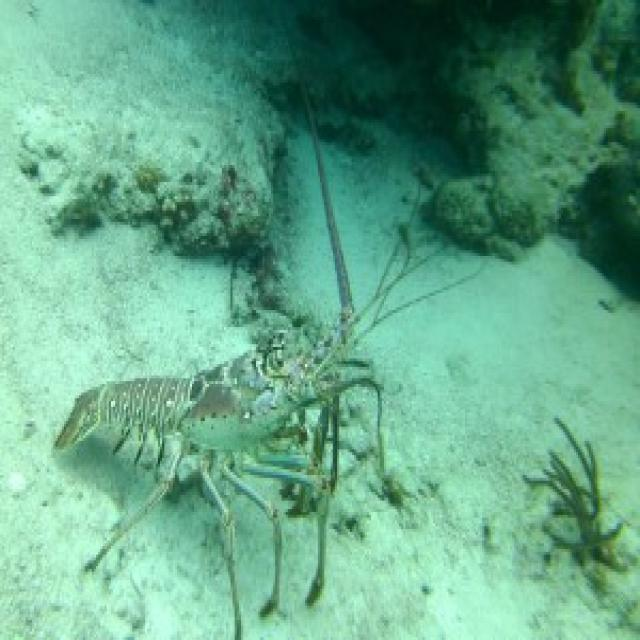lobsters: (25, 204, 478, 640)
